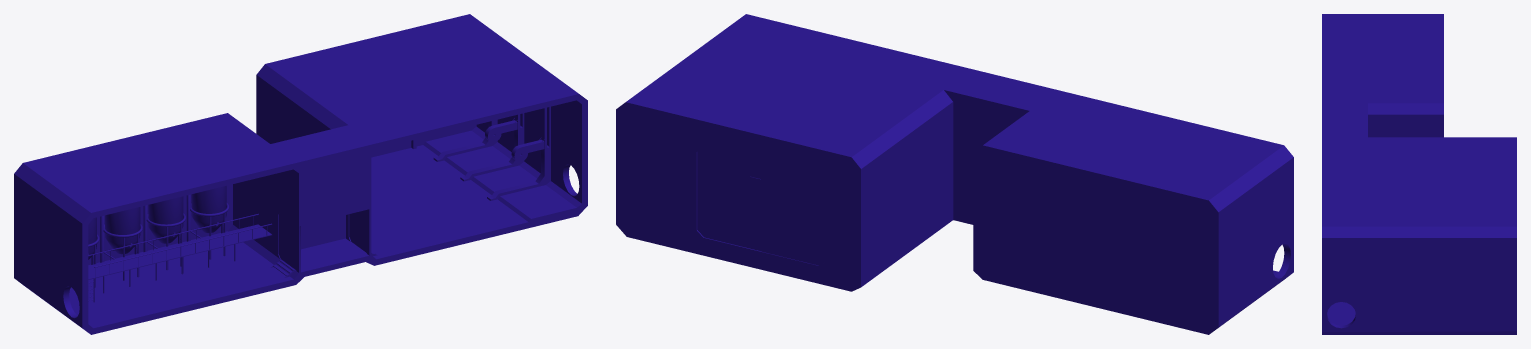
The model's file is Sala2y3-Recoleccion-02.fbx.
The picture shows the model from 3 angles, left to right: view 1: azimuth 30°, elevation 25°; view 2: azimuth 150°, elevation 25°; view 3: azimuth 270°, elevation 25°; orthographic projection. The views are drawn at different scales.
Parts seen in each view (by area): view 1: sala-2y3, Pasarela-01, Silo-01, Silo-03, Silo-02, cargador-Robot-01, cargador-Robot-02, PuertaConector-01, PuertaConector-02, cargador-Robot-03; view 2: sala-2y3, puertaRobots-L, puertaRobots-R; view 3: sala-2y3.
Part boxes in pixels (bbox=[...]): sala-2y3: bbox=[14, 14, 587, 334]; Pasarela-01: bbox=[88, 213, 271, 302]; Silo-01: bbox=[186, 186, 229, 259]; Silo-03: bbox=[100, 207, 142, 280]; Silo-02: bbox=[143, 196, 185, 270]; cargador-Robot-01: bbox=[487, 106, 550, 200]; cargador-Robot-02: bbox=[460, 113, 524, 181]; PuertaConector-01: bbox=[279, 213, 297, 270]; PuertaConector-02: bbox=[349, 209, 368, 252]; cargador-Robot-03: bbox=[433, 119, 497, 161]; sala-2y3: bbox=[616, 14, 1293, 334]; puertaRobots-L: bbox=[750, 162, 825, 265]; puertaRobots-R: bbox=[697, 147, 761, 250]; sala-2y3: bbox=[1322, 14, 1516, 334].
Size of the model in its own units: 3994 by 921 by 1495.
